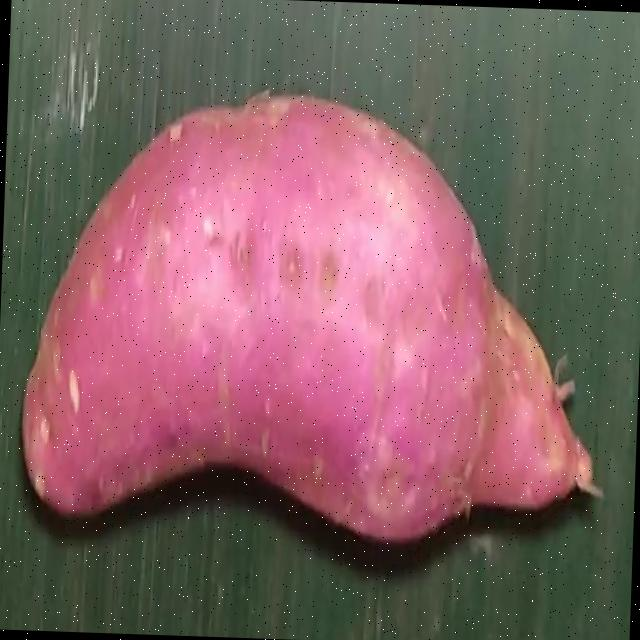Sweet Potato: (21, 89, 603, 542)
